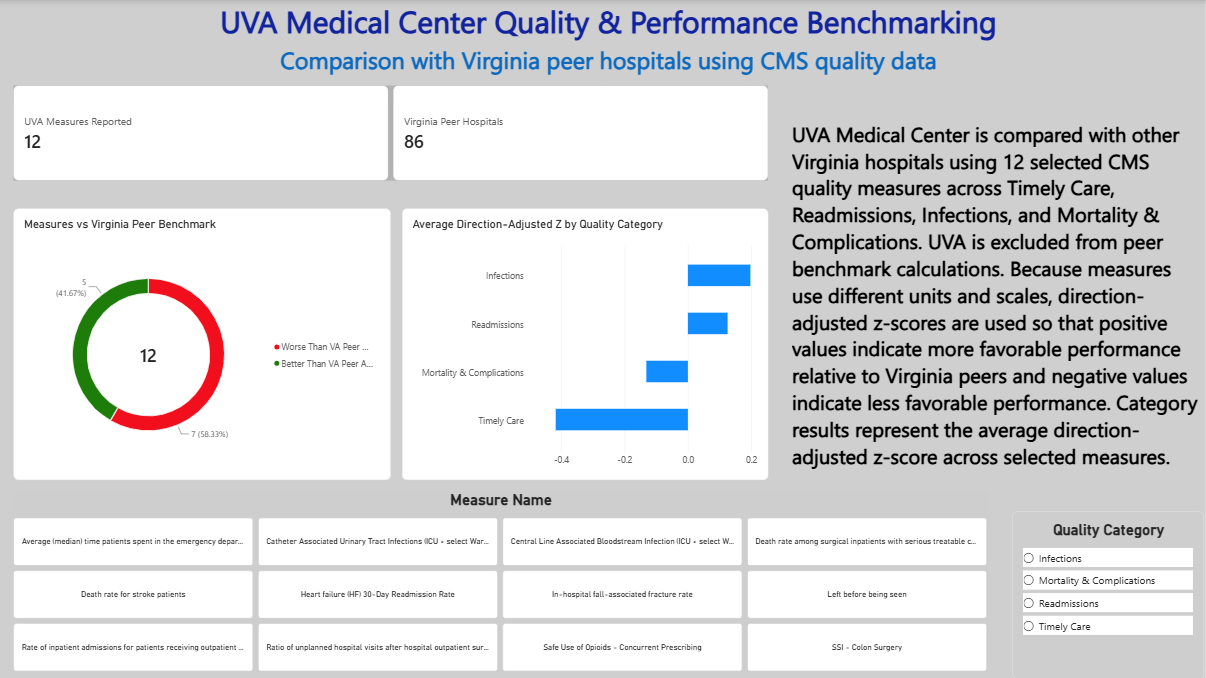

This screenshot's page, from the dashboard's own definition file:
{"tool":"powerbi","page":{"name":"UVA Medical Center Quality & Performance Benchmarking","canvas":[1920,1080],"ordinal":0},"visuals":[{"type":"cardVisual","fields":{"Data":["Hospital Quality.UVA Measures Reported","Hospital Quality.Virginia Peer Hospital"]},"box":[26.8,136.6,1200,151.2],"z":0},{"type":"listSlicer","fields":{"Values":["Hospital Quality.Quality Category"]},"box":[1614.6,814.6,304.9,265.9],"z":1000},{"type":"advancedSlicerVisual","fields":{"Values":["Hospital Quality.Measure Name"]},"box":[26.8,780.5,1551.2,290.2],"z":2000},{"type":"donutChart","title":"Measures vs Virginia Peer Benchmark","fields":{"Category":["uva_complete_benchmark.Benchmark Status"],"Y":["CountNonNull(uva_complete_benchmark.Measure ID)"]},"box":[26.8,331.7,600,431.7],"z":3000},{"type":"textbox","box":[26.8,0,1892.7,136.6],"z":4000},{"type":"textbox","box":[26.8,68.3,1892.7,95.1],"z":5000},{"type":"clusteredBarChart","title":"Average Direction-Adjusted Z by Quality Category","fields":{"Category":["Hospital Quality.Quality Category"],"Y":["Hospital Quality.Direction Adjusted Z"]},"box":[643.9,331.7,582.9,431.7],"z":6000},{"type":"textbox","box":[1263.4,190.2,656.1,624.4],"z":7000}]}

Visuals, with their boxes in screenshot pixels (x1, y1, x2, y2), scaled from the page's 1920x1080 canvas onto the 1206x678 screenshot:
cardVisual - Hospital Quality.UVA Measures Reported x Hospital Quality.Virginia Peer Hospital: l=17, t=86, r=771, b=181
listSlicer - Hospital Quality.Quality Category: l=1014, t=511, r=1205, b=677
advancedSlicerVisual - Hospital Quality.Measure Name: l=17, t=490, r=991, b=672
"Measures vs Virginia Peer Benchmark" donutChart: l=17, t=208, r=394, b=479
textbox: l=17, t=0, r=1205, b=86
textbox: l=17, t=43, r=1205, b=103
"Average Direction-Adjusted Z by Quality Category" clusteredBarChart: l=404, t=208, r=771, b=479
textbox: l=794, t=119, r=1205, b=511
